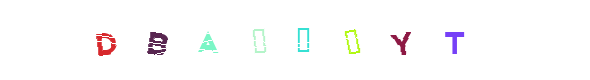2: (256, 0, 336, 80)
5: (210, 0, 290, 80)
6: (280, 0, 360, 80)
A: (210, 0, 290, 80)
B: (201, 0, 281, 80)
D: (65, 0, 145, 80)
T: (414, 0, 494, 80)
Y: (312, 0, 392, 80)
